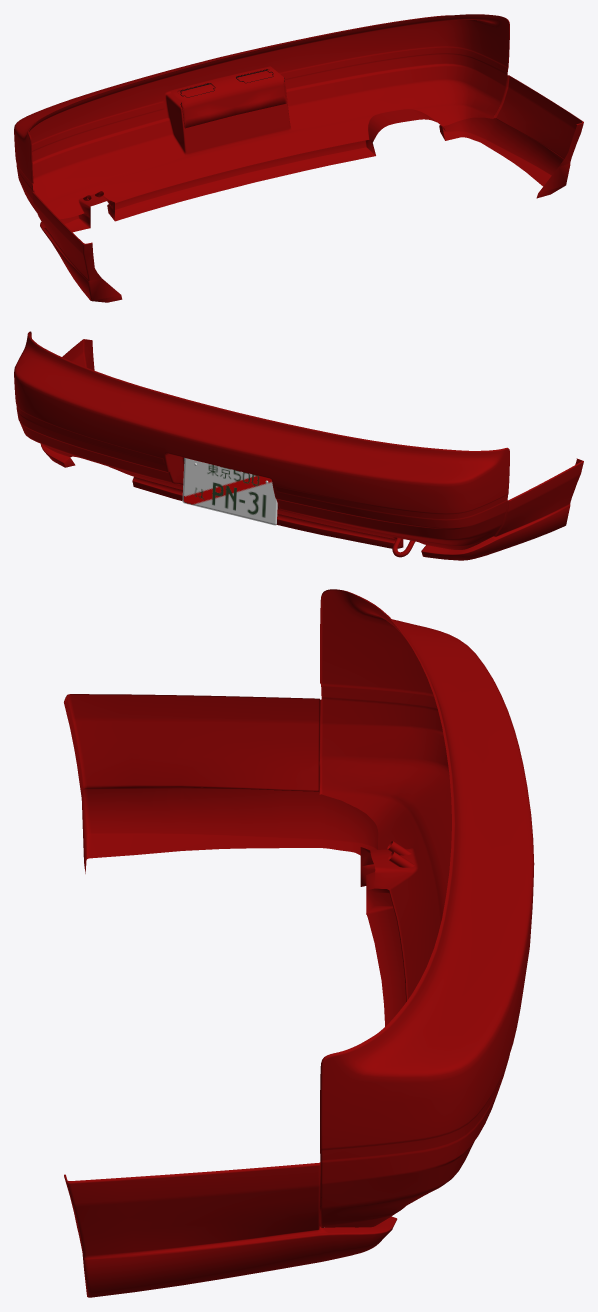
Rendered from rearbumper_oemkouki.glb.
3 renders of one model, top to bottom at view 1: azimuth 30°, elevation 25°; view 2: azimuth 150°, elevation 25°; view 3: azimuth 270°, elevation 25°, orthographic. The views are drawn at different scales.
Visible parts, largest first — view 1: Bumper; view 2: Bumper, Plate; view 3: Bumper.
Boxes of the visible parts, <box> form: Bumper: <box>14,14,583,302</box>; Bumper: <box>14,331,583,560</box>; Plate: <box>182,458,277,525</box>; Bumper: <box>64,589,534,1297</box>.
Size of the model in its own units: 1.69 by 0.4121 by 0.6854.
Materials: 4 (1 with a texture image).
